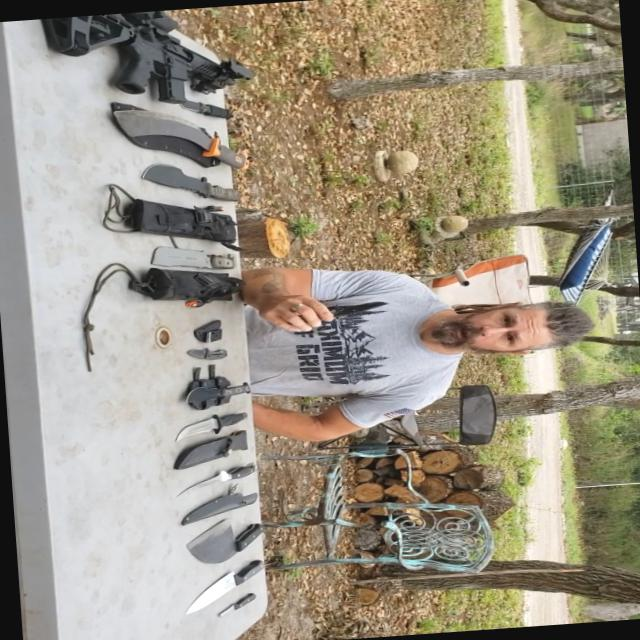knife: (95, 76, 252, 178), (124, 142, 252, 216), (129, 230, 252, 282), (302, 276, 422, 328), (186, 560, 268, 626), (148, 408, 266, 452), (173, 514, 264, 570), (168, 462, 286, 505), (174, 379, 262, 409), (204, 588, 270, 627), (179, 94, 247, 128), (184, 341, 252, 360)
long weapon: (33, 0, 314, 114)
